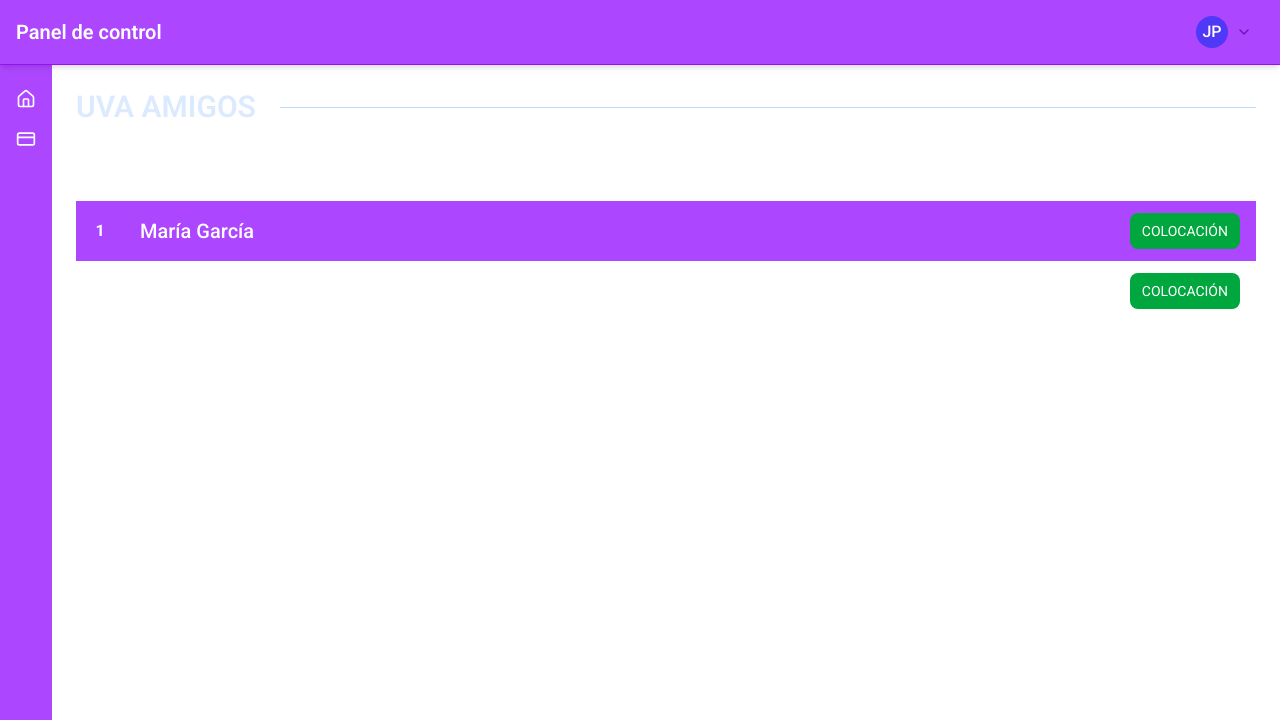
TanquePage › Autoasignar afiliado › debe mostrar diálogo de confirmación al hacer clic en Autoasignar
Check: the text "María García" is shown, box [140, 219, 254, 243]
Note: Hacer clic en el botón "Colocación" del primer afiliado
Click the button "Colocación" in the row of "María" at [1185, 231], box [1130, 213, 1240, 249]
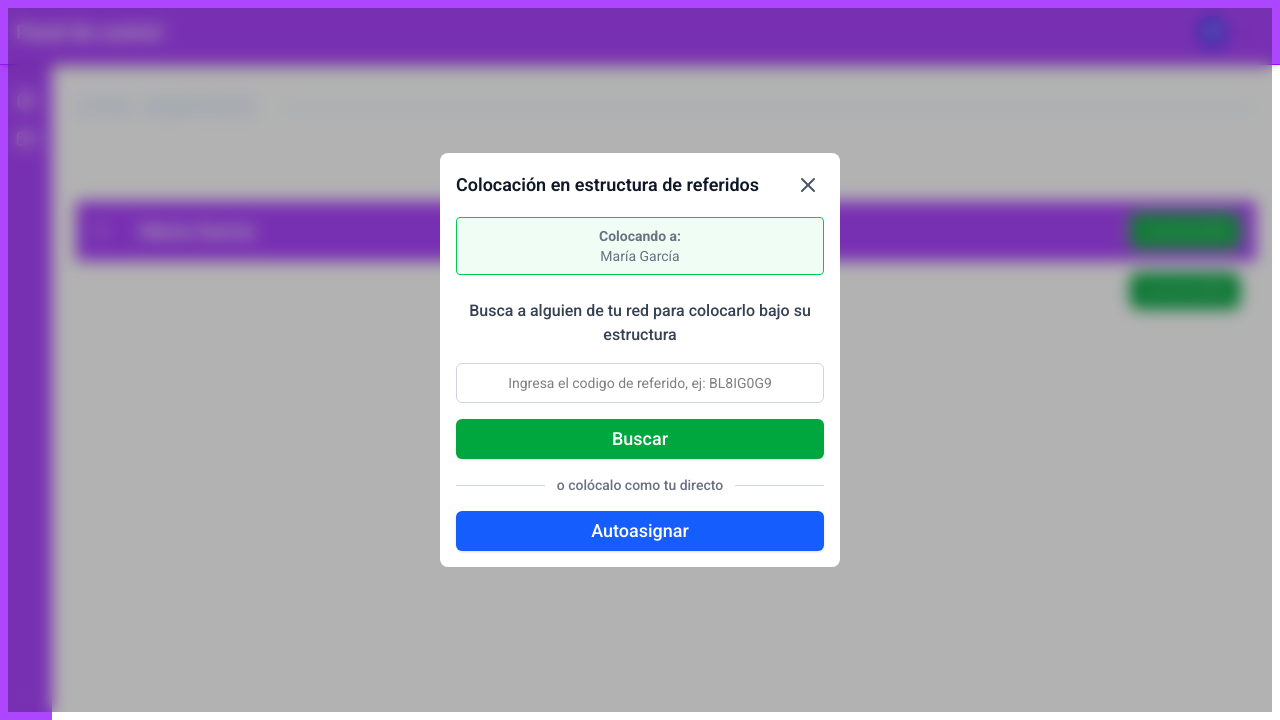
Check: the heading "Colocación en estructura de referidos" is shown, box [456, 171, 759, 199]
Check: the text "Colocando a:" is shown, box [599, 228, 681, 244]
Note: Hacer clic en Autoasignar
Click the button "Autoasignar" at [640, 531], box [456, 511, 824, 551]
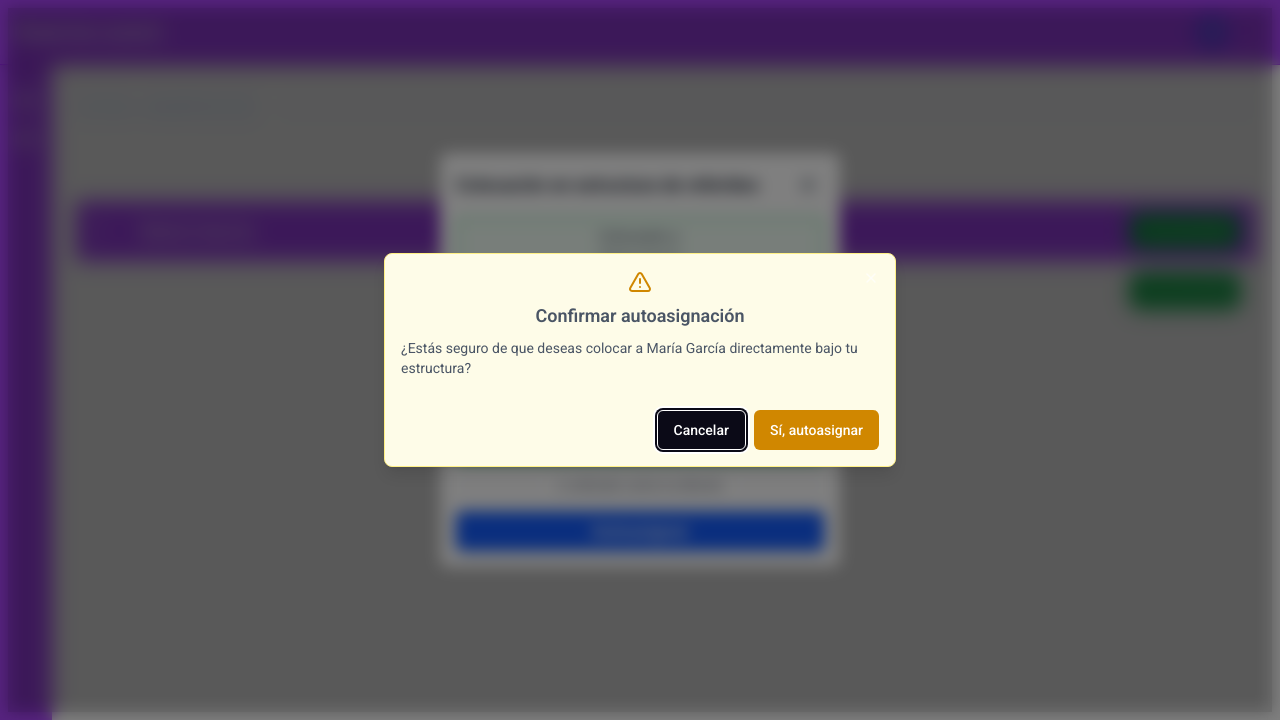
Check: the heading "Confirmar autoasignación" is shown, box [536, 302, 745, 330]
Check: the text "¿Estás seguro de que deseas colocar a María García directamente bajo tu estructura?" is shown, box [401, 340, 858, 376]
